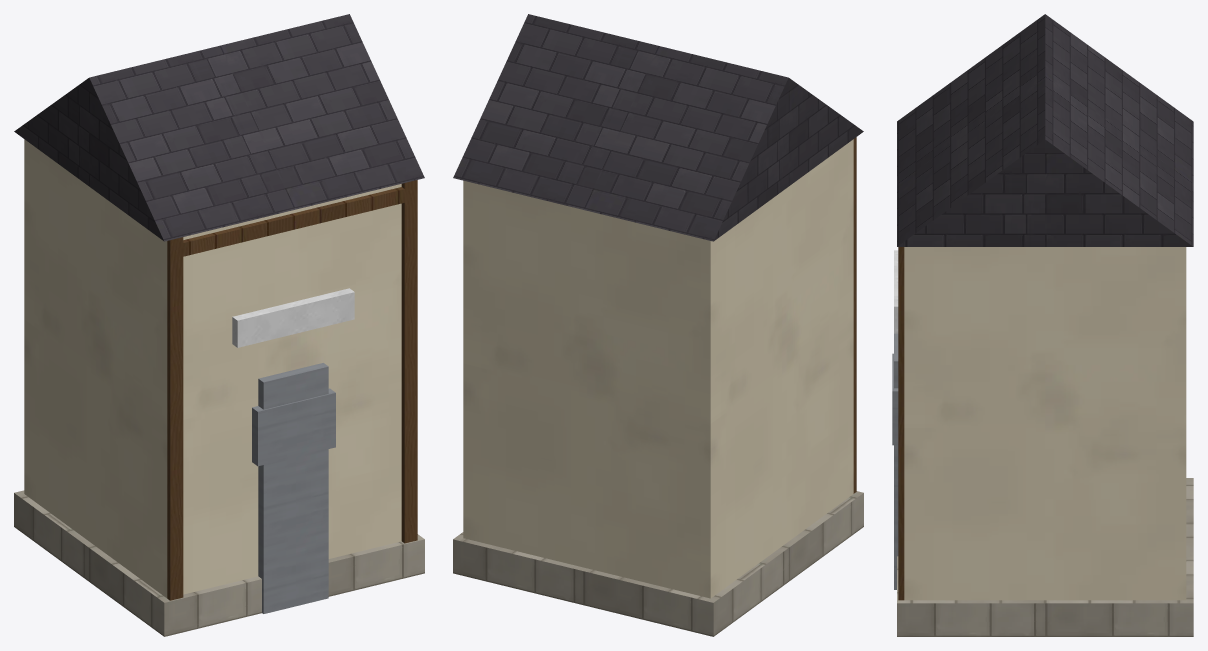
The model's file is category.lending.t2.glb.
The picture shows the model from 3 angles, left to right: view 1: azimuth 30°, elevation 25°; view 2: azimuth 150°, elevation 25°; view 3: azimuth 270°, elevation 25°; orthographic projection.
Visible parts, largest first — view 1: building.category.lending.t2; view 2: building.category.lending.t2; view 3: building.category.lending.t2.
Boxes of the visible parts, x1=… form: building.category.lending.t2: x1=14, y1=14, x2=424, y2=636; building.category.lending.t2: x1=453, y1=14, x2=863, y2=636; building.category.lending.t2: x1=892, y1=14, x2=1193, y2=636.
Bounding box in the file's own units: 2 × 3.7 × 2.03.
Materials: 6 (6 with a texture image).
